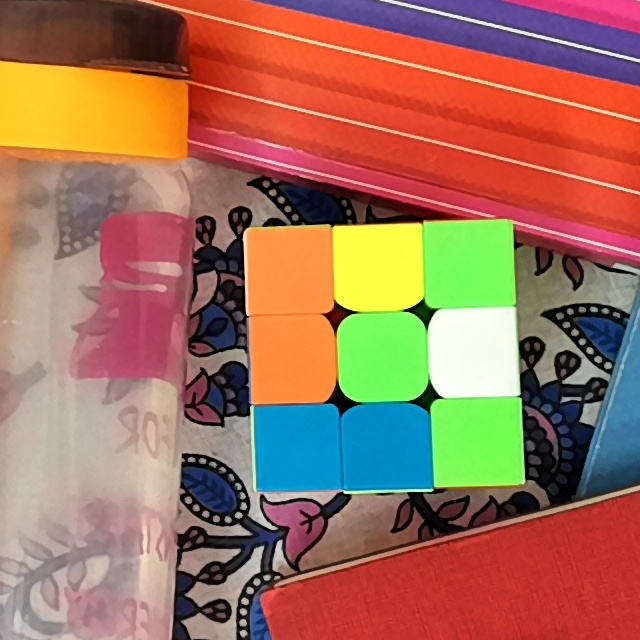tile: (439, 405, 520, 480), (433, 225, 510, 300), (348, 412, 428, 482), (439, 316, 514, 390), (255, 321, 327, 397), (259, 412, 335, 484), (253, 234, 326, 308), (340, 232, 416, 303), (346, 324, 422, 392)
